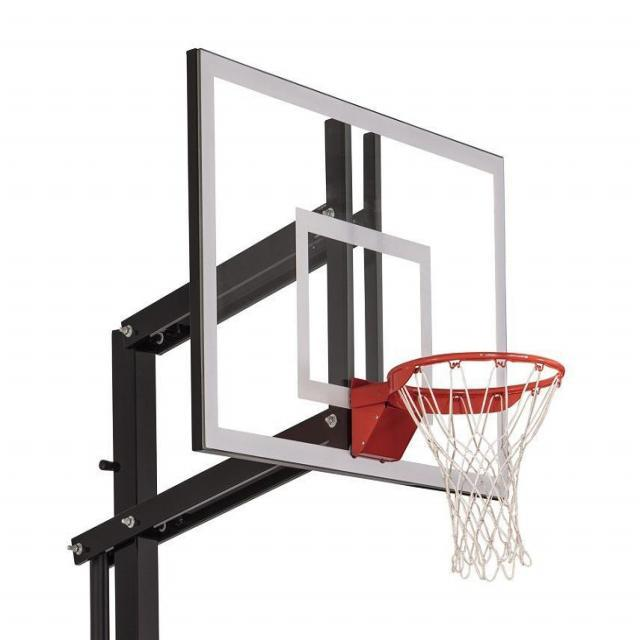hoop: (387, 351, 566, 581)
